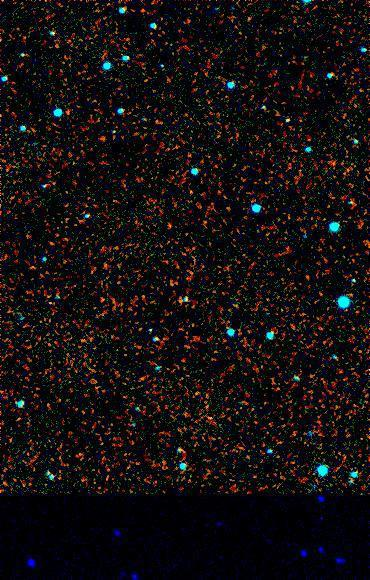star: (216, 363, 246, 393)
